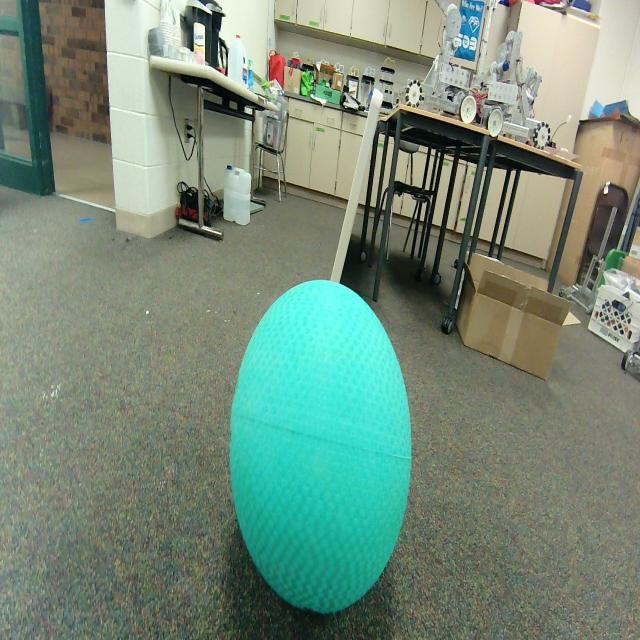algae: (222, 272, 418, 624)
